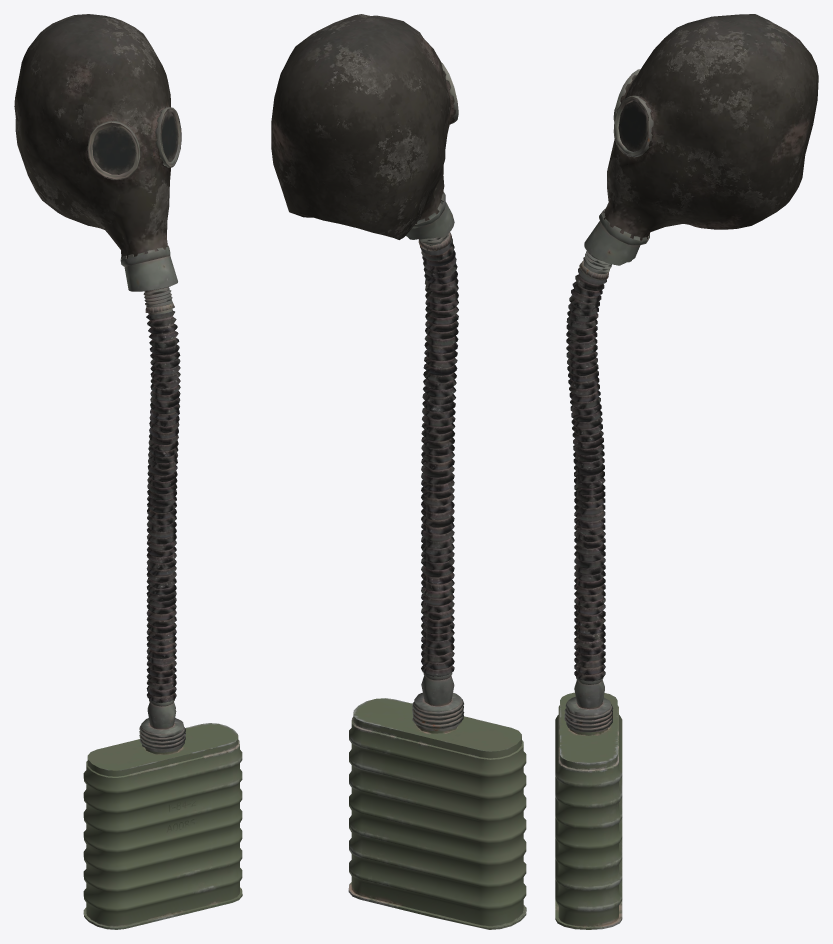
Rendered from gasmask.glb.
3 renders of one model, left to right at view 1: azimuth 30°, elevation 25°; view 2: azimuth 150°, elevation 25°; view 3: azimuth 270°, elevation 25°, orthographic. The views are drawn at different scales.
Parts seen in each view (by area): view 1: old_gas_mask; view 2: old_gas_mask; view 3: old_gas_mask.
Part boxes in pixels (left/top/right/bottom): old_gas_mask: left=14, top=14, right=242, bottom=929; old_gas_mask: left=271, top=14, right=526, bottom=929; old_gas_mask: left=555, top=14, right=818, bottom=929.
Bounding box in the file's own units: 0.2105 × 1.13 × 0.3087.
Materials: 1 (1 with a texture image).
